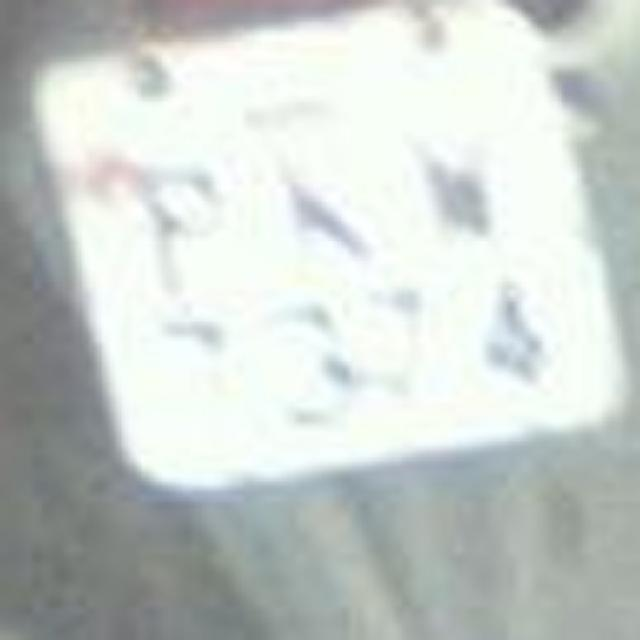4: (448, 236, 584, 416)
7: (124, 300, 288, 452)
8: (252, 269, 412, 436)
N: (376, 80, 524, 265)
P: (112, 144, 248, 311)
Z: (224, 84, 388, 284)
